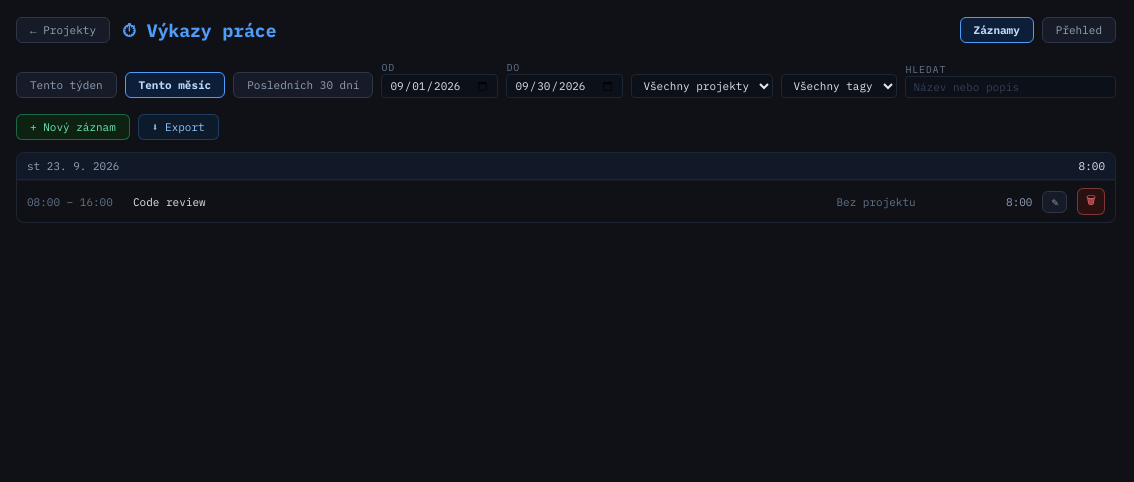
přehled › průměr na den u sebe má, z čeho se počítá
This screenshot has width=1134, height=482.
Step 1. Click the button "Přehled" → (1079, 30), box [1042,17,1116,43]
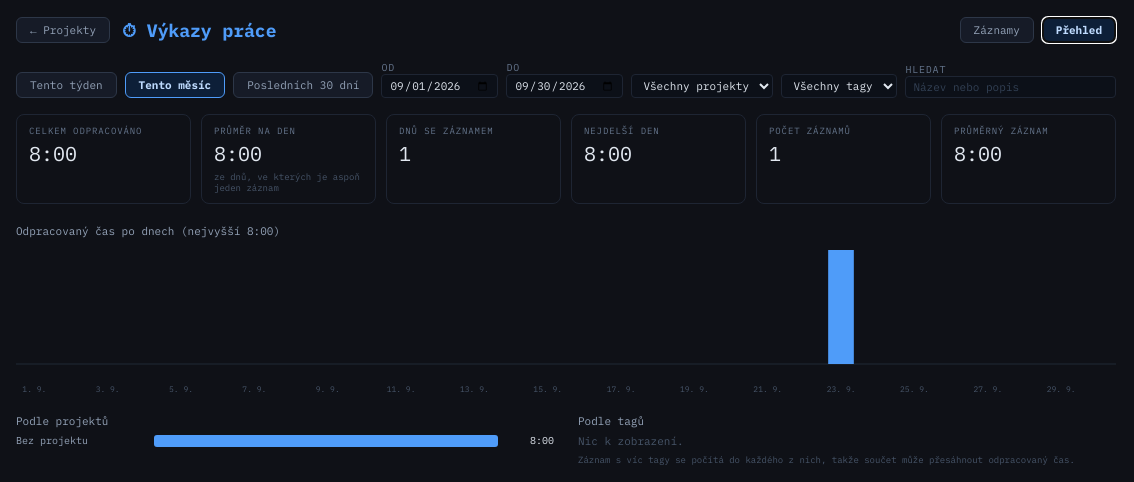
Check: the text "Průměr na den" is shown, box [214,125,296,136]
Check: the text "ze dnů, ve kterých je aspoň jeden záznam" is shown, box [214,171,363,193]
